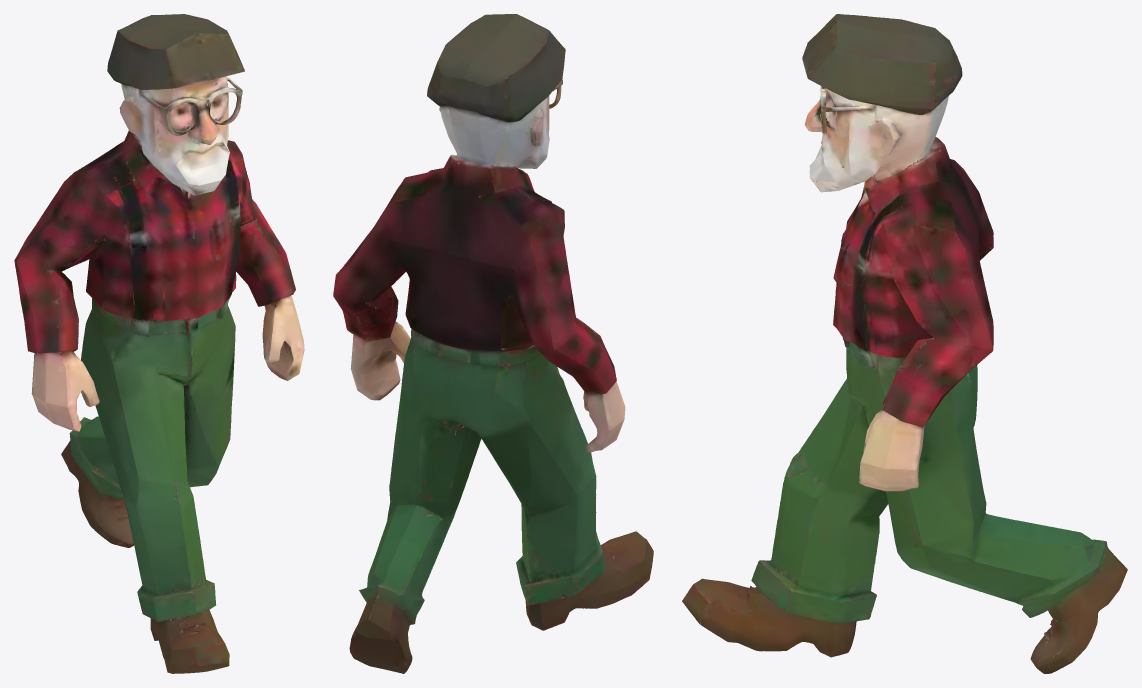
The model's file is mats.glb.
3 views of the same model, side by side, from view 1: azimuth 30°, elevation 25°; view 2: azimuth 150°, elevation 25°; view 3: azimuth 270°, elevation 25° (orthographic). The views are drawn at different scales.
Visible parts, largest first — view 1: model; view 2: model; view 3: model.
Part boxes in pixels (left/top/right/bottom): model: left=14, top=14, right=304, bottom=673; model: left=333, top=14, right=653, bottom=673; model: left=682, top=14, right=1127, bottom=673.
Size of the model in its own units: 0.8575 by 1.9 by 1.19.
Materials: 1 (1 with a texture image).
